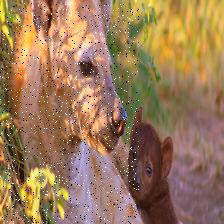hyena: (0, 3, 139, 224)
